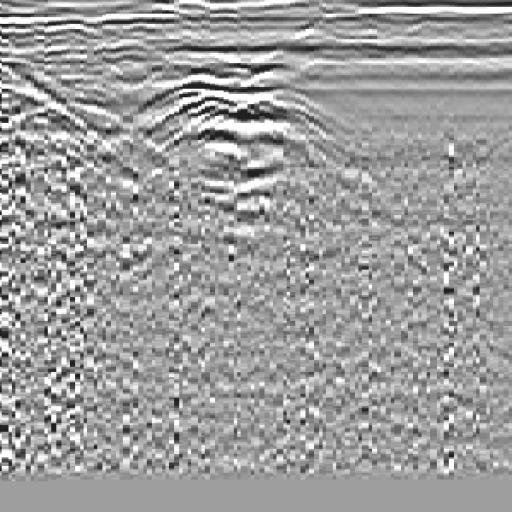metalic: (131, 46, 331, 191)
